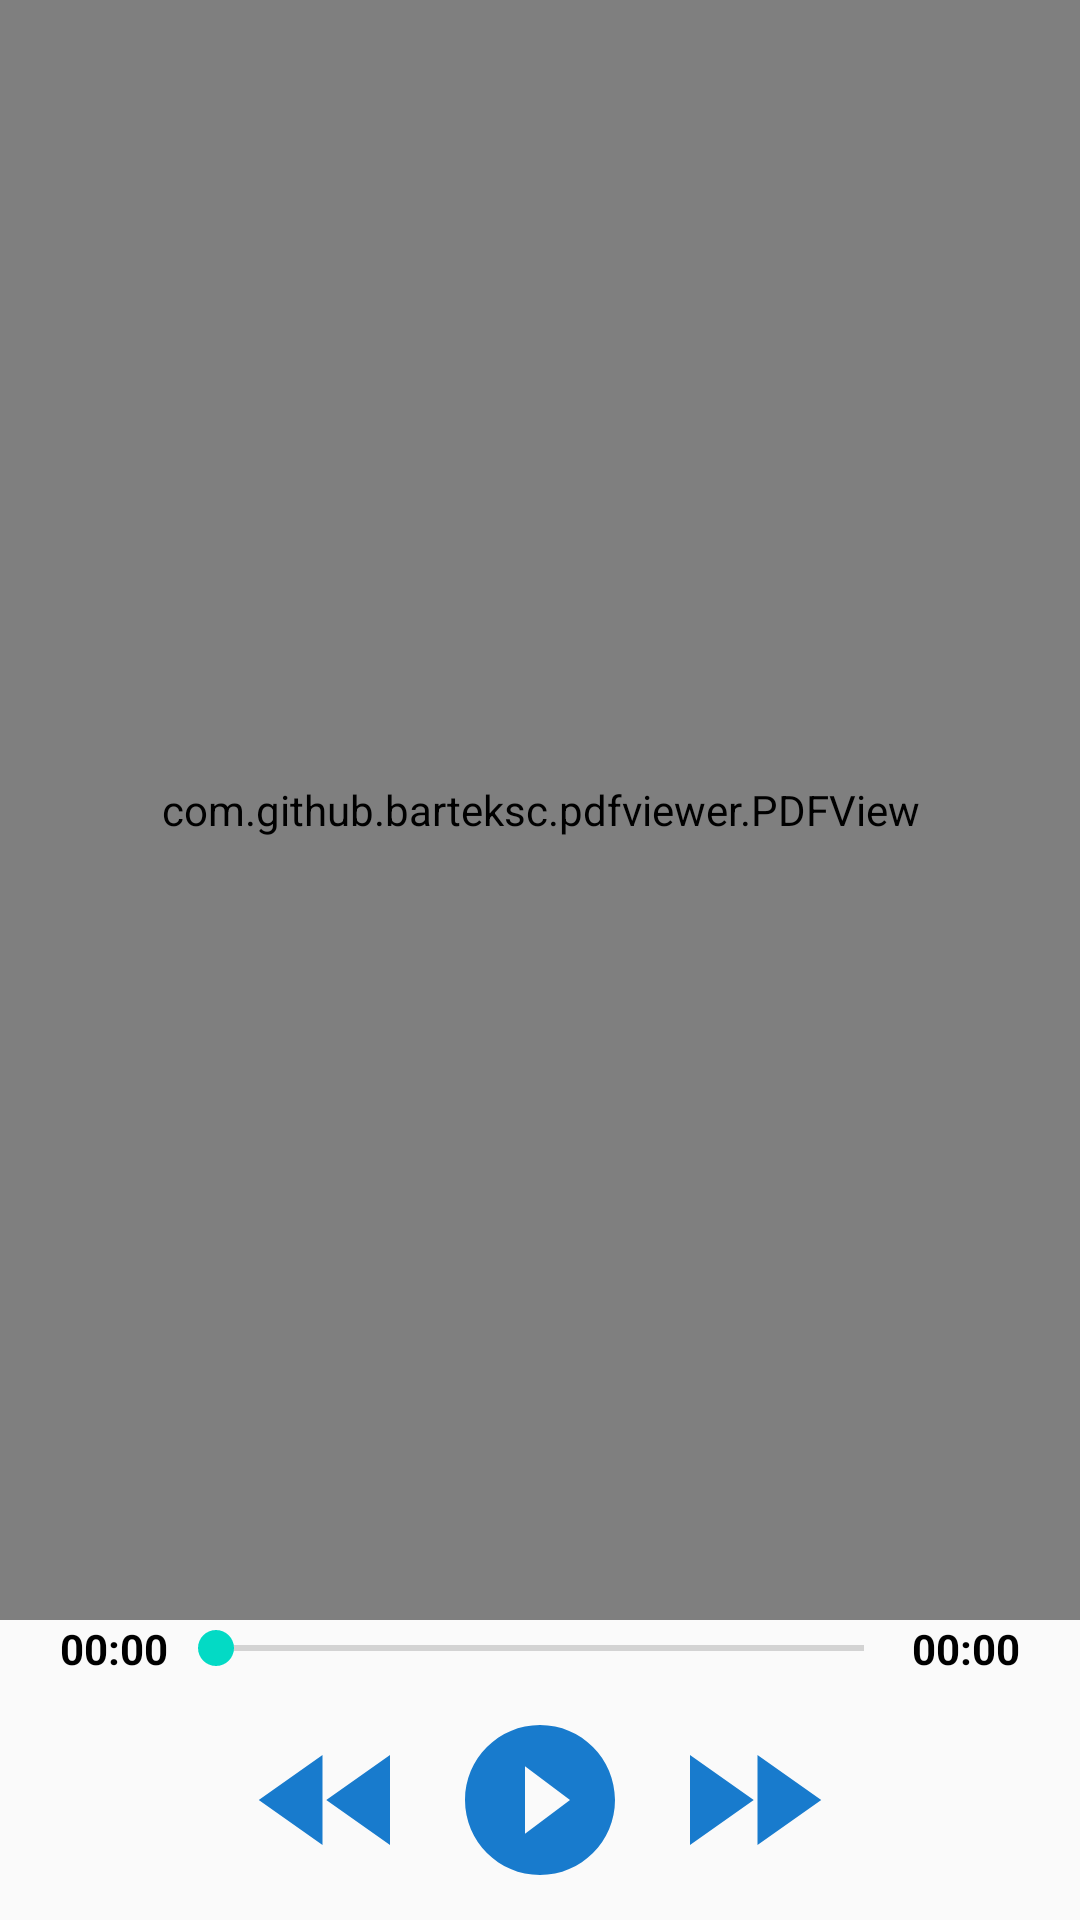

Named icons in this screenshot (1080px×1920px) and their bounding boxes, (x1=x1, y1=y1, x2=x2, y2=y2):
fast: (x1=690, y1=1755, x2=821, y2=1845)
icfast rewind: (x1=259, y1=1755, x2=390, y2=1845)
play: (x1=465, y1=1725, x2=615, y2=1875)
